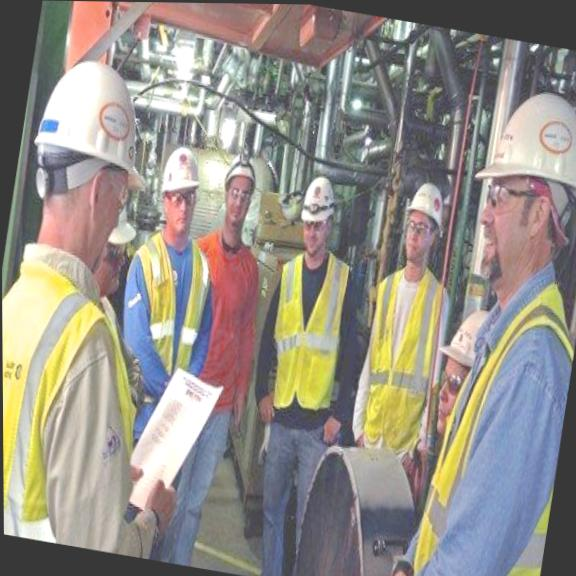no_safety_vest: (174, 236, 276, 410)
safety_vest: (404, 251, 576, 576), (2, 268, 129, 543), (247, 247, 359, 456), (346, 260, 460, 463), (108, 224, 214, 413)
